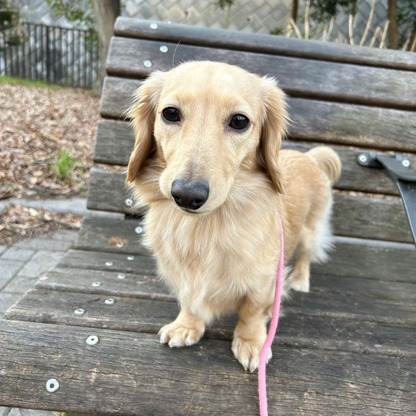dachshund: (107, 64, 363, 386)
